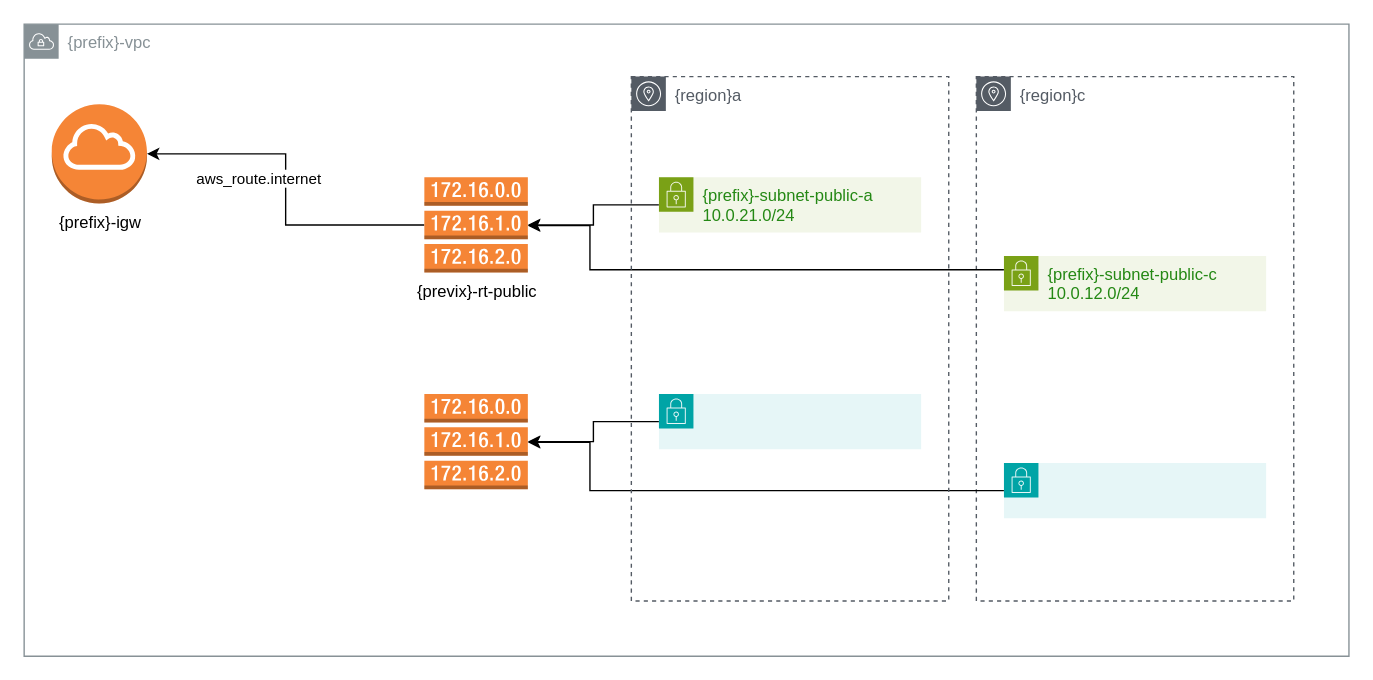
This 1373x680 diagram has some shape labels left out. Here are the shapes that lost their labels. From the top down, the centre of each, then its label:
At point 475,441: "{prefix}-rt-private".
At point 789,421: "{prefix}-subnet-private-a 10.0.11.0/24".
At point 1134,490: "{prefix}-subnet-private-c 10.0.12.0/24".
